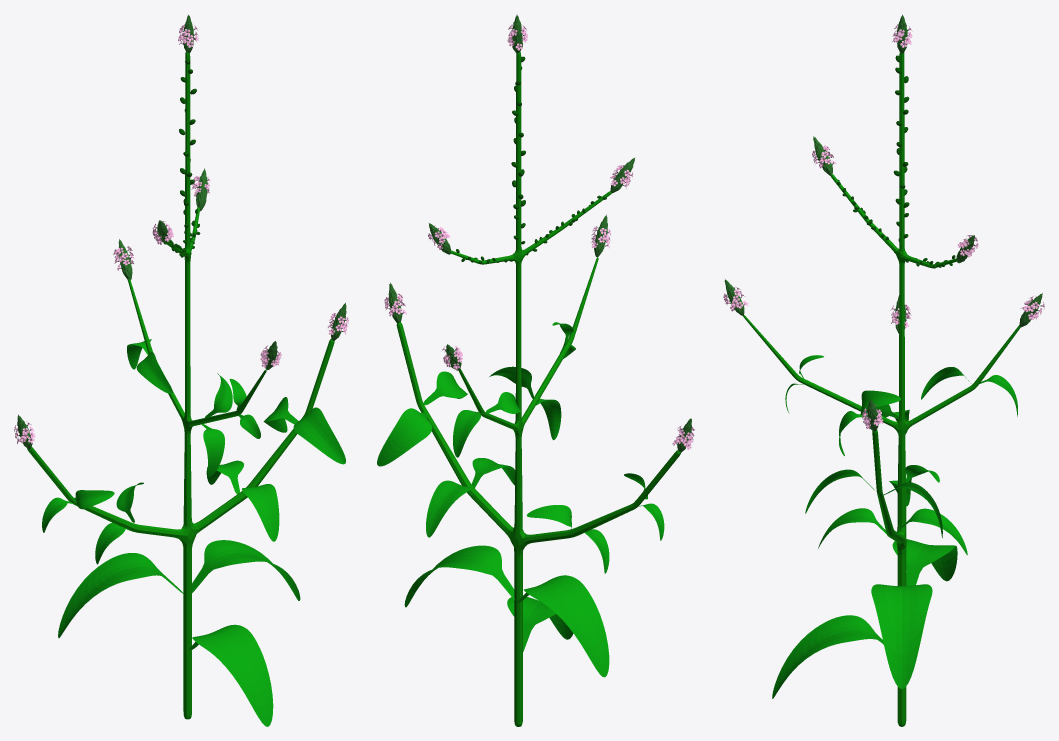
File: Verbena_5.fbx
The picture shows the model from 3 angles, left to right: view 1: azimuth 30°, elevation 25°; view 2: azimuth 150°, elevation 25°; view 3: azimuth 270°, elevation 25°; orthographic projection.
Visible parts, largest first — view 1: Leaves, Plane, Bulbs, Petals.001, Bulbs_small; view 2: Leaves, Plane, Bulbs, Petals.001, Bulbs_small; view 3: Leaves, Plane, Bulbs, Petals.001, Bulbs_small.
Boxes of the visible parts, <box> form: Leaves: <box>42,339,345,726</box>; Plane: <box>27,52,334,719</box>; Bulbs: <box>17,14,346,449</box>; Petals.001: <box>14,24,348,443</box>; Bulbs_small: <box>163,59,200,257</box>; Leaves: <box>377,322,664,677</box>; Plane: <box>396,52,680,726</box>; Bulbs: <box>388,14,691,452</box>; Petals.001: <box>384,24,694,449</box>; Bulbs_small: <box>456,56,606,263</box>; Leaves: <box>772,355,1017,698</box>; Plane: <box>743,52,1020,726</box>; Bulbs: <box>724,14,1042,431</box>; Petals.001: <box>723,24,912,429</box>; Bulbs_small: <box>837,55,955,268</box>.
Bounding box in the file's own units: 859 × 1829 × 746.
